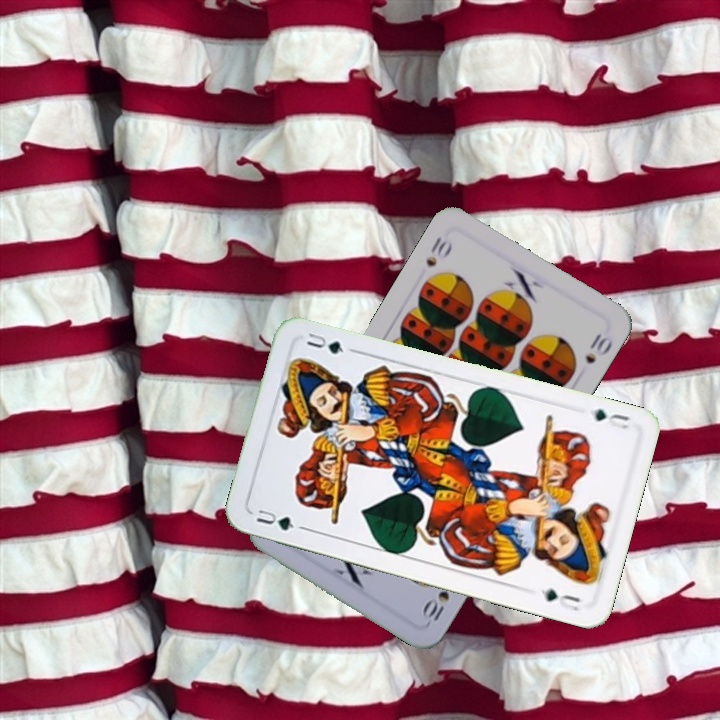GU: (252, 505, 307, 533), (586, 405, 632, 432)
S10: (419, 586, 453, 626), (421, 232, 455, 271)
